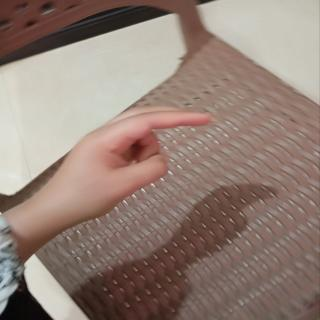ZAY: (42, 100, 214, 233)
